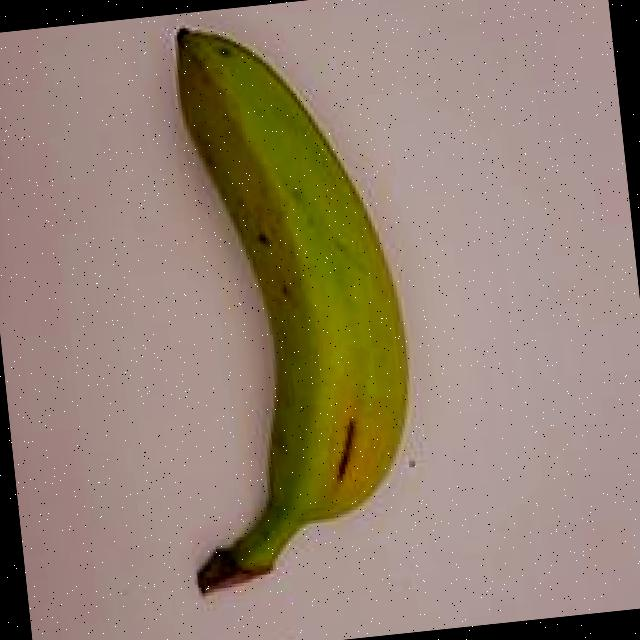Unripe: (101, 0, 453, 627)
